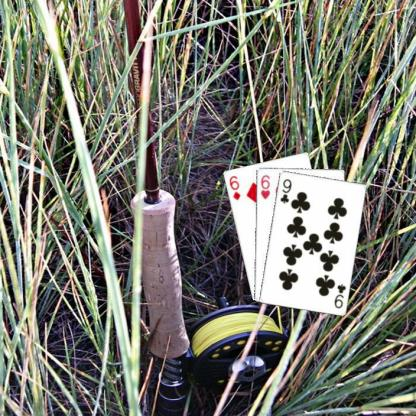6D: (226, 173, 242, 202)
6H: (258, 172, 270, 200)
9C: (277, 176, 293, 205), (331, 281, 347, 310)
